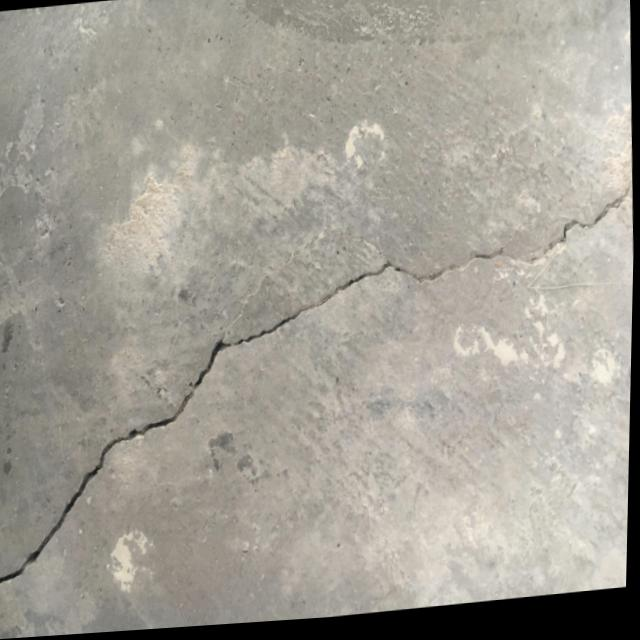Crack: (204, 185, 636, 356), (0, 340, 233, 594)
